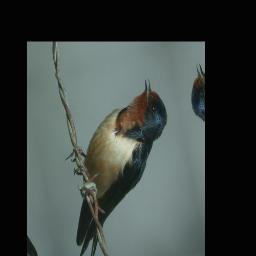Swallow: (52, 74, 193, 256)
